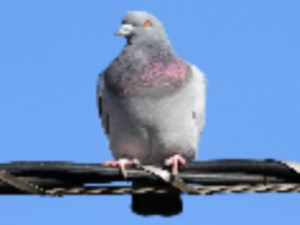pigeon: (93, 10, 208, 217)
